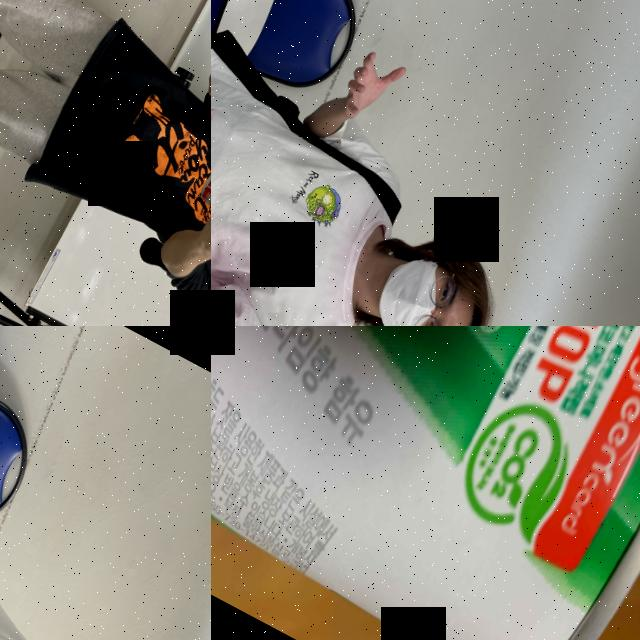can: (211, 326, 640, 640), (186, 153, 211, 260)
